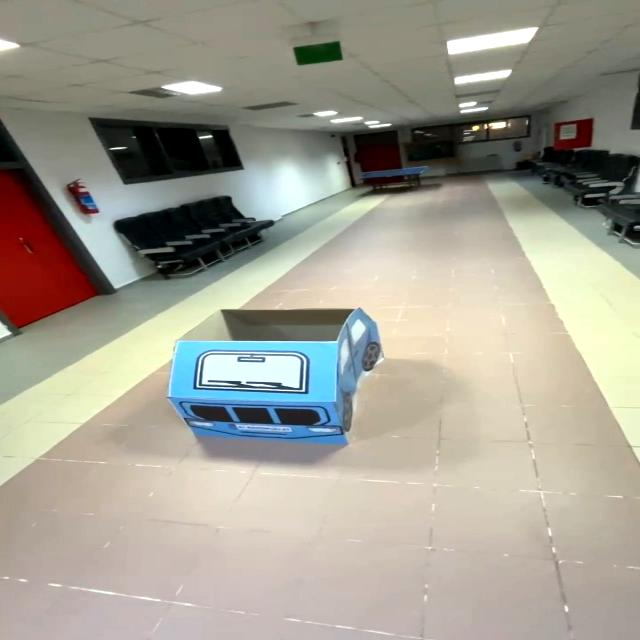blue_car: (150, 293, 403, 464)
